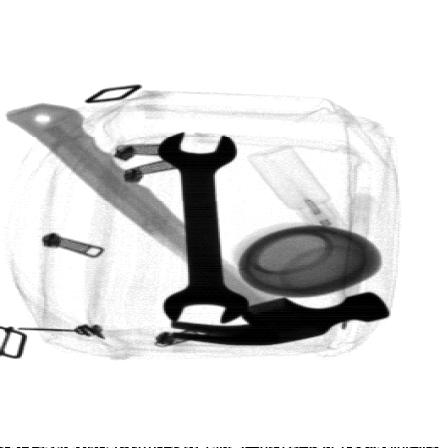Hammer: (5, 101, 390, 347)
Wrench: (154, 131, 253, 325)
